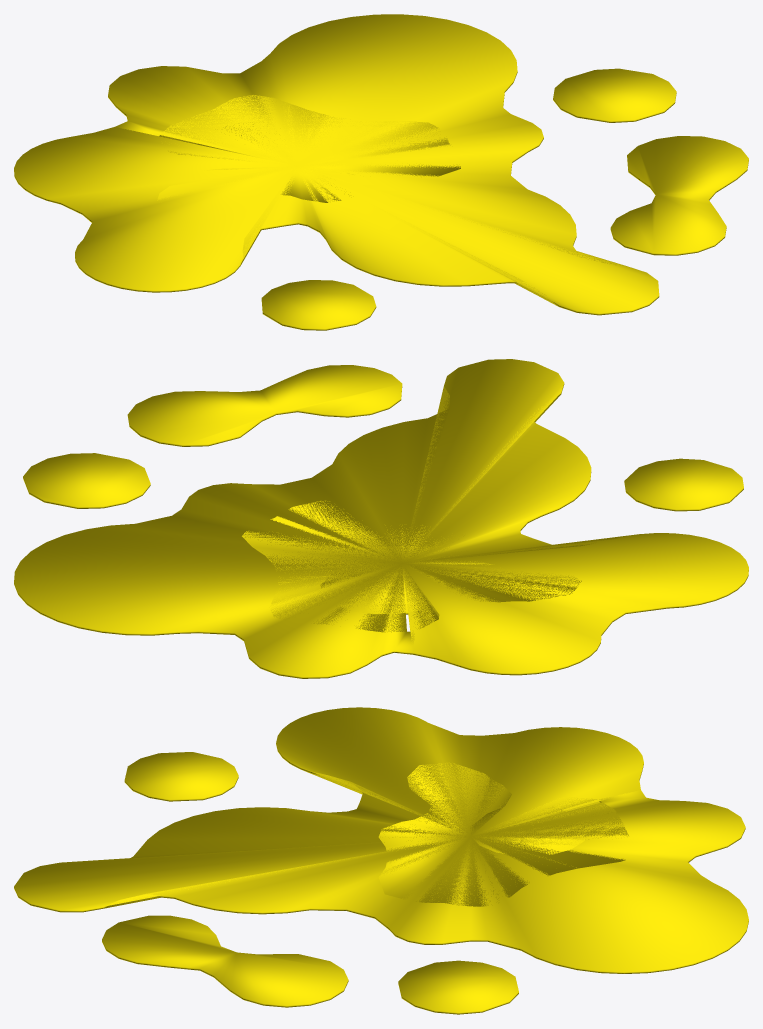
Rendered from cheese.fbx.
3 views of the same model, one above another, from view 1: azimuth 30°, elevation 25°; view 2: azimuth 150°, elevation 25°; view 3: azimuth 270°, elevation 25° (orthographic). The views are drawn at different scales.
Visible parts, largest first — view 1: cheese; view 2: cheese; view 3: cheese.
Part boxes in pixels (box(x1,y1,x2,y2)): cheese: box(14, 14, 748, 330); cheese: box(14, 359, 748, 678); cheese: box(14, 707, 748, 1014).
Size of the model in its own units: 1972 by 5.95 by 2007.
